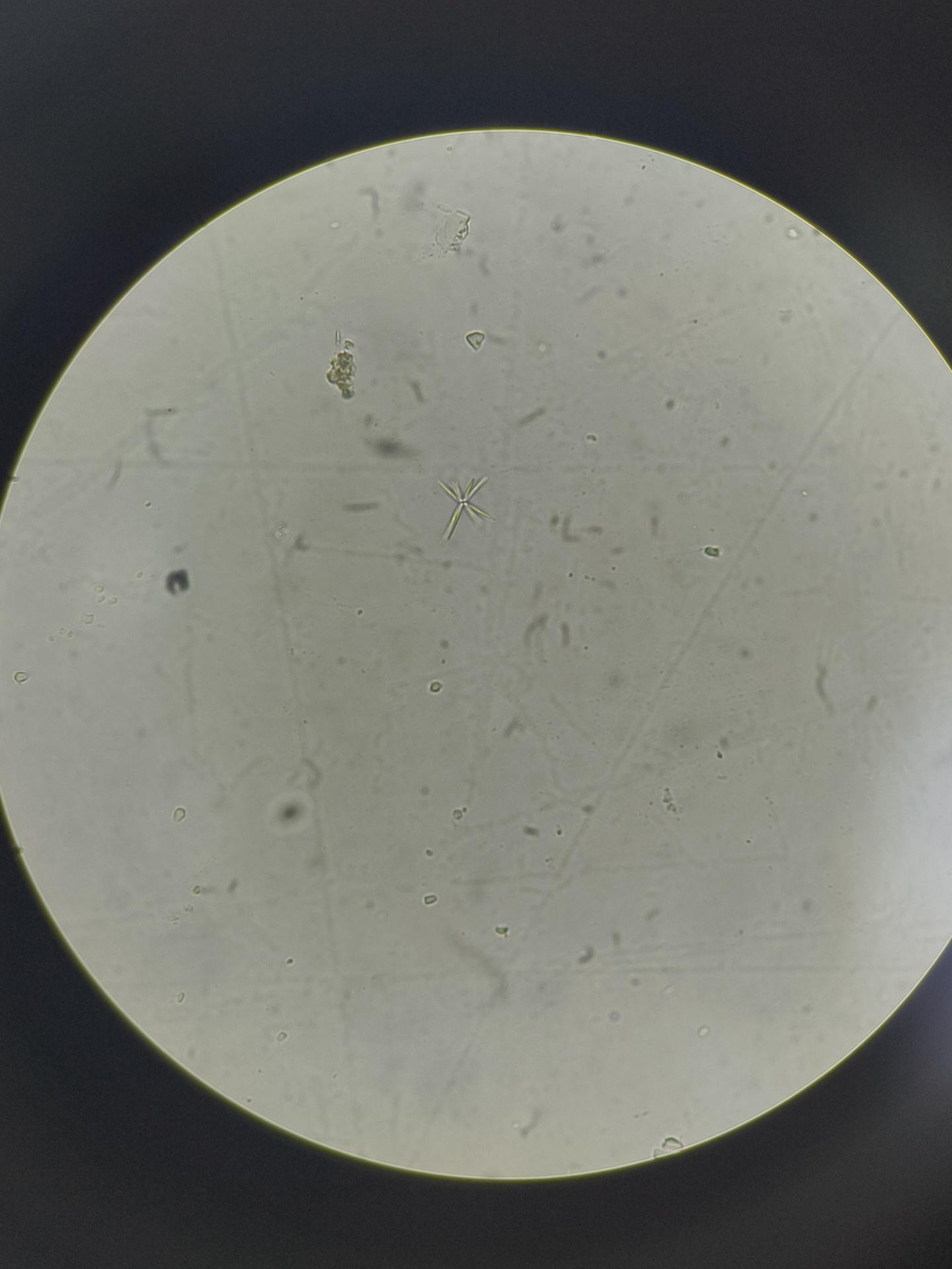Scenedesmus: (430, 446, 492, 554)
